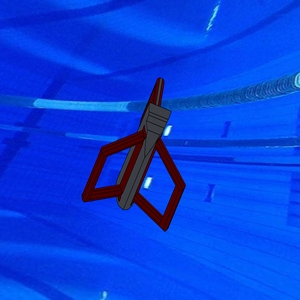submarine: (82, 77, 191, 232)
